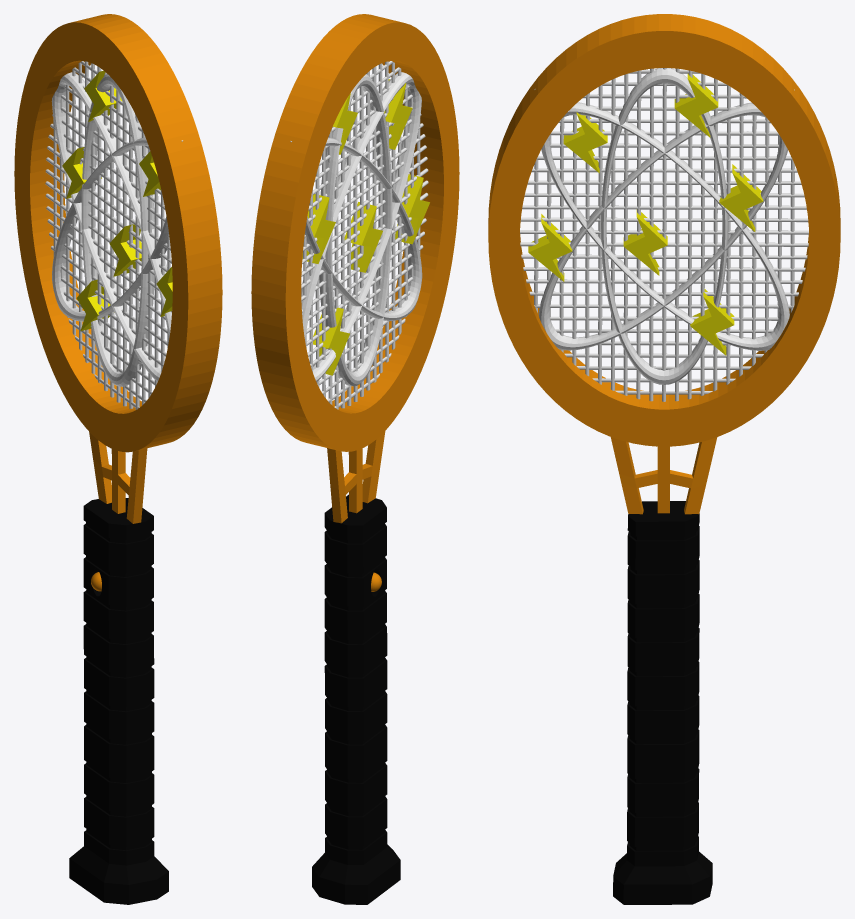
File: swatter_chess.glb
The picture shows the model from 3 angles, left to right: view 1: azimuth 30°, elevation 25°; view 2: azimuth 150°, elevation 25°; view 3: azimuth 270°, elevation 25°; orthographic projection.
Visible parts, largest first — view 1: Circle, Cylinder.002, Cylinder, Torus.001, Cylinder.001, Torus, Cube.004, Cube.001, Cube.003, Cube.005, Cube, Cube.002; view 2: Circle, Cylinder.002, Cylinder, Torus.001, Cylinder.001, Torus, Cube.004, Cube.002, Cube.005, Cube.001, Cube, Cube.003; view 3: Circle, Cylinder.002, Cylinder, Cylinder.001, Torus.001, Torus, Cube.002, Cube.004, Cube, Cube.001, Cube.005, Cube.003.
Part boxes in pixels (x1=…): Circle: x1=14, y1=14, x2=222, y2=523; Cylinder.002: x1=69, y1=498, x2=168, y2=904; Cylinder: x1=53, y1=61, x2=183, y2=409; Torus.001: x1=51, y1=72, x2=171, y2=381; Cylinder.001: x1=45, y1=61, x2=171, y2=408; Torus: x1=81, y1=74, x2=154, y2=386; Cube.004: x1=109, y1=224, x2=141, y2=276; Cube.001: x1=76, y1=279, x2=114, y2=331; Cube.003: x1=84, y1=70, x2=122, y2=121; Cube.005: x1=62, y1=147, x2=101, y2=198; Cube: x1=139, y1=151, x2=160, y2=196; Cube.002: x1=156, y1=267, x2=172, y2=316; Circle: x1=251, y1=14, x2=459, y2=523; Cylinder.002: x1=312, y1=494, x2=400, y2=904; Cylinder: x1=290, y1=61, x2=420, y2=409; Torus.001: x1=301, y1=72, x2=422, y2=381; Cylinder.001: x1=301, y1=61, x2=428, y2=408; Torus: x1=319, y1=74, x2=392, y2=386; Cube.004: x1=344, y1=202, x2=382, y2=272; Cube.002: x1=395, y1=174, x2=429, y2=244; Cube.005: x1=302, y1=194, x2=335, y2=263; Cube.001: x1=313, y1=307, x2=349, y2=375; Cube: x1=384, y1=79, x2=412, y2=149; Cube.003: x1=333, y1=93, x2=357, y2=154; Circle: x1=488, y1=14, x2=840, y2=514; Cylinder.002: x1=613, y1=501, x2=712, y2=904; Cylinder: x1=534, y1=68, x2=794, y2=401; Cylinder.001: x1=520, y1=69, x2=808, y2=394; Torus.001: x1=538, y1=102, x2=789, y2=350; Torus: x1=601, y1=68, x2=727, y2=384; Cube.002: x1=528, y1=214, x2=572, y2=281; Cube.004: x1=623, y1=209, x2=667, y2=275; Cube: x1=563, y1=112, x2=607, y2=173; Cube.001: x1=690, y1=289, x2=734, y2=355; Cube.005: x1=719, y1=164, x2=763, y2=231; Cube.003: x1=674, y1=73, x2=718, y2=137.
Bounding box in the file's own units: 0.2364 × 3.17 × 1.17.
